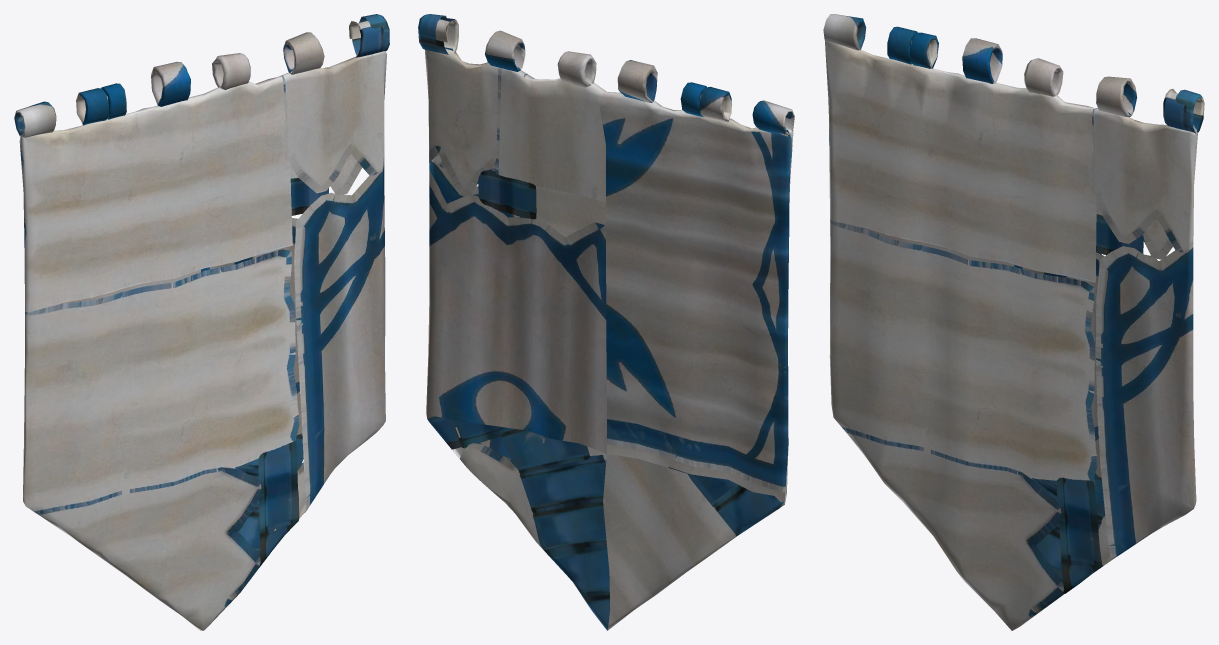
The picture shows the model from 3 angles, left to right: view 1: azimuth 30°, elevation 25°; view 2: azimuth 150°, elevation 25°; view 3: azimuth 330°, elevation 25°; orthographic projection.
Visible parts, largest first — view 1: SM_Double_Banner_Armadyl_02v1_LOD0; view 2: SM_Double_Banner_Armadyl_02v1_LOD0; view 3: SM_Double_Banner_Armadyl_02v1_LOD0.
Part boxes in pixels (left/top/right/bottom): SM_Double_Banner_Armadyl_02v1_LOD0: left=14, top=14, right=389, bottom=630; SM_Double_Banner_Armadyl_02v1_LOD0: left=418, top=14, right=794, bottom=630; SM_Double_Banner_Armadyl_02v1_LOD0: left=823, top=14, right=1204, bottom=630.
Bounding box in the file's own units: 1.59 × 2.38 × 0.1242.
